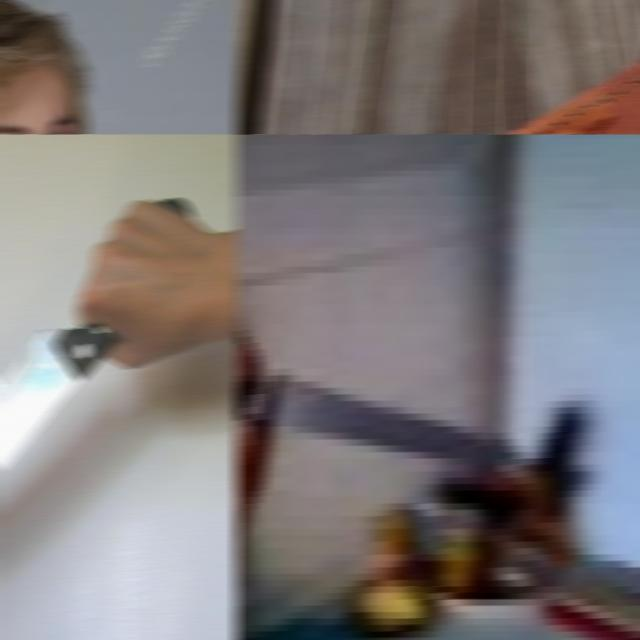Knife: (0, 324, 117, 470)
Knife_Handle: (0, 187, 238, 640), (234, 282, 516, 512)
